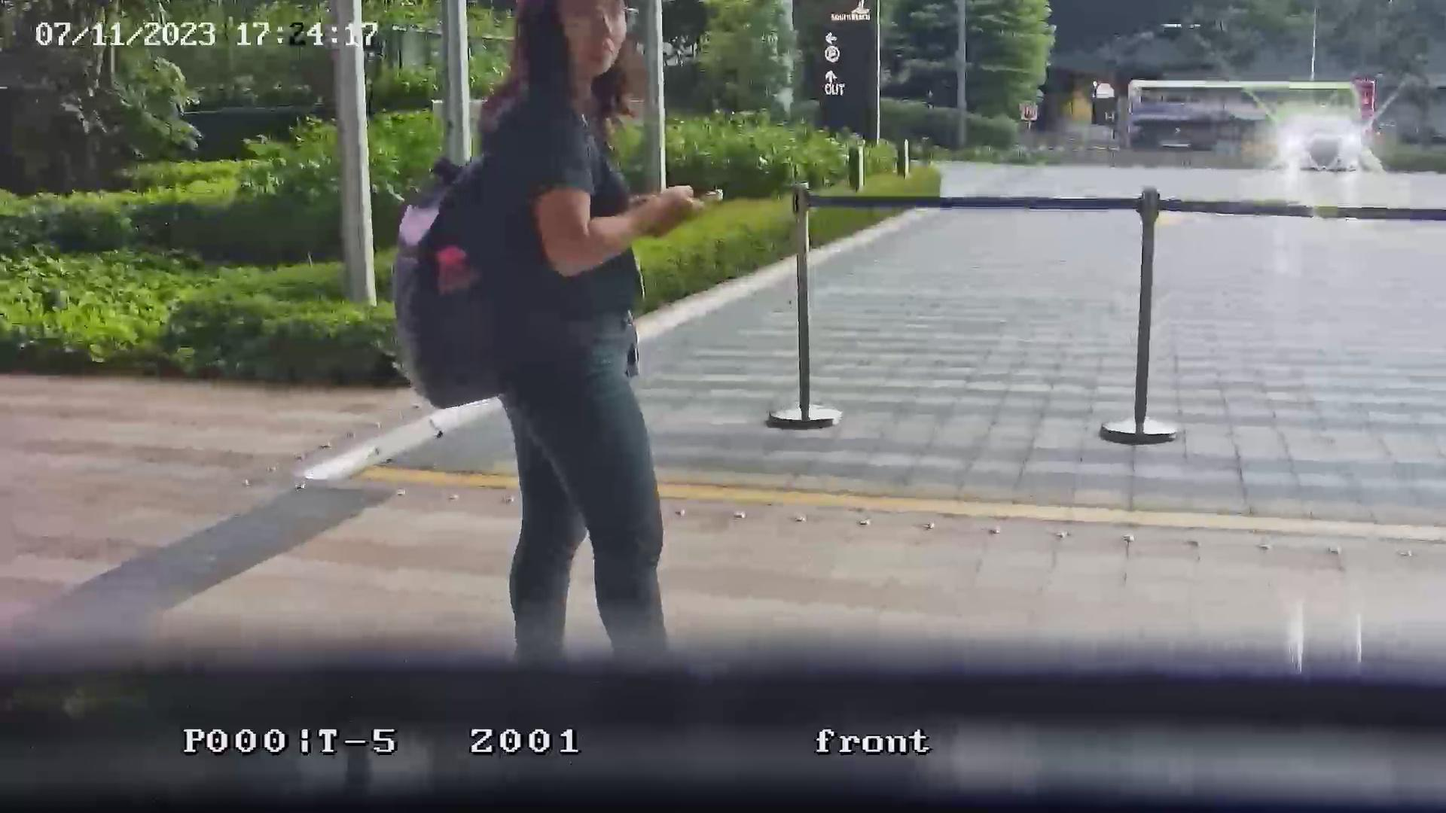person: (477, 0, 703, 671)
